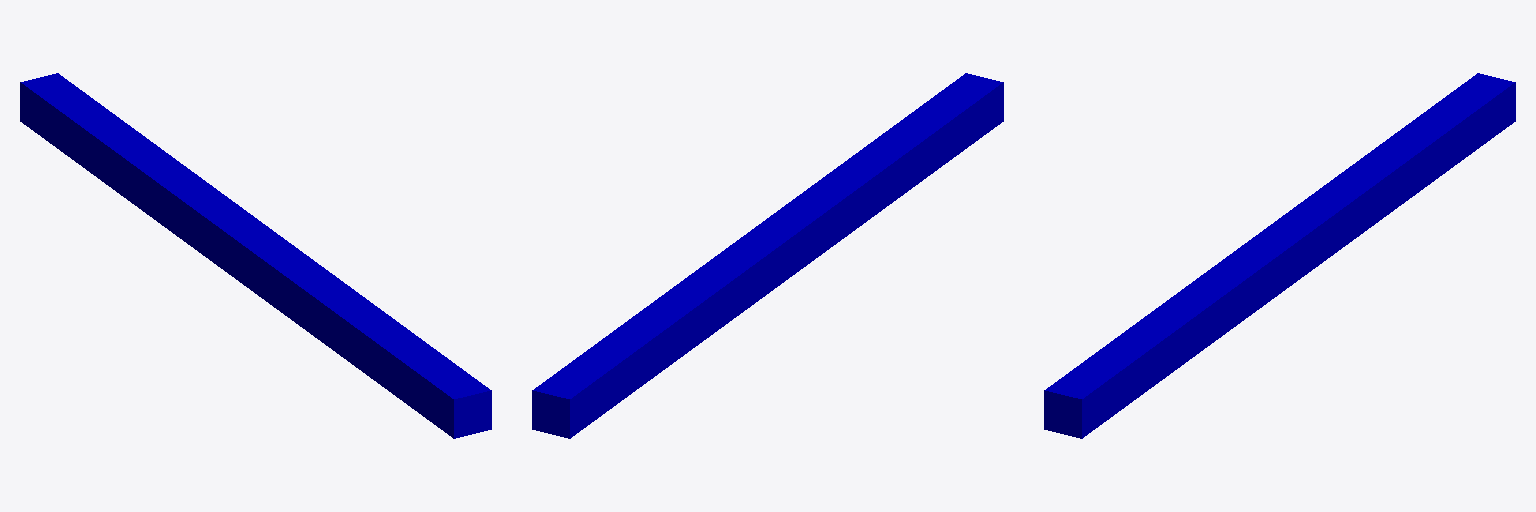
robot.urdf — simple_cuboid:
<?xml version="1.0"?>
<robot name="simple_cuboid">
  <link name="base_link">
    <inertial>
      <origin xyz="0 0 0" rpy="0 0 0" />
      <mass value="10" />
      <inertia ixx="0.000363" ixy="0" ixz="0" iyy="0.000363" iyz="0"
          izz="0.00006" />
    </inertial>
    <visual>
      <origin xyz="0 0 0" rpy="0 0 0" />
      <geometry>
        <box size="0.02 0.4 0.02" />
      </geometry>
      <material name="red">
        <color rgba="0.0 0.0 0.8 1" />
      </material>
    </visual>
    <collision>
      <geometry>
        <box size="0.02 0.4 0.02" />
      </geometry>
    </collision>
   </link>
</robot>

--- Render facts (derived) ---
3 views of the same robot in one strip: view 1: azimuth 30°, elevation 25°; view 2: azimuth 150°, elevation 25°; view 3: azimuth 330°, elevation 25° (orthographic).
Robot: simple_cuboid — 1 links, 0 joints (none); root link base_link; default pose: all joints at 0.
Links seen in each view (by area): view 1: base_link; view 2: base_link; view 3: base_link.
Boxes of the visible links, x1=… form: base_link: x1=20, y1=73, x2=491, y2=438; base_link: x1=532, y1=73, x2=1003, y2=438; base_link: x1=1044, y1=73, x2=1515, y2=438.
Size in the robot's own frame: 0.02 by 0.4 by 0.02 metres.
Geometry: primitives only (box / cylinder / sphere), no mesh files.